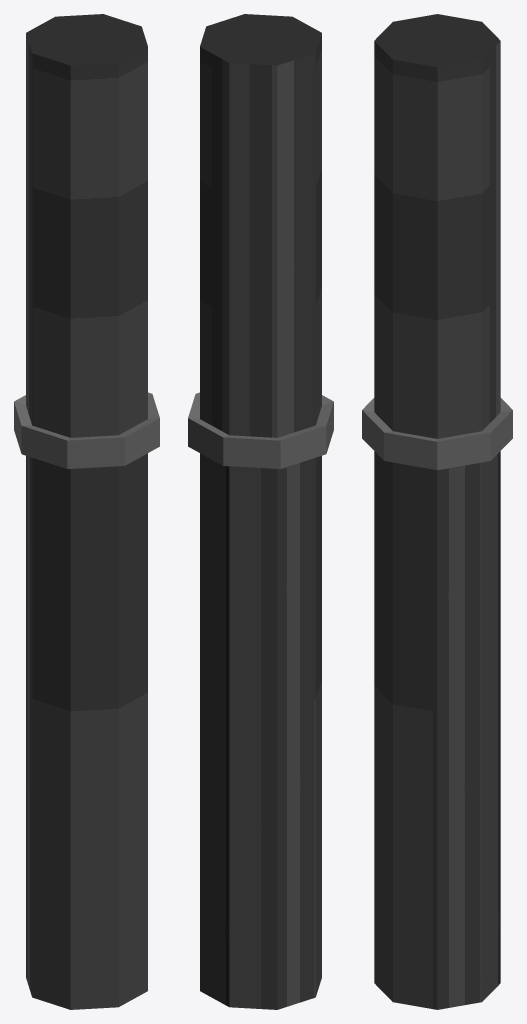
File: pillar.fbx
3 renders of one model, left to right at view 1: azimuth 30°, elevation 25°; view 2: azimuth 150°, elevation 25°; view 3: azimuth 270°, elevation 25°, orthographic.
Parts seen in each view (by area): view 1: Cylinder; view 2: Cylinder; view 3: Cylinder.
Boxes of the visible parts, left/top/right/bottom form: Cylinder: left=14, top=14, right=159, bottom=1009; Cylinder: left=188, top=14, right=333, bottom=1009; Cylinder: left=362, top=14, right=512, bottom=1009.
Size of the model in its own units: 239 by 1647 by 239.
